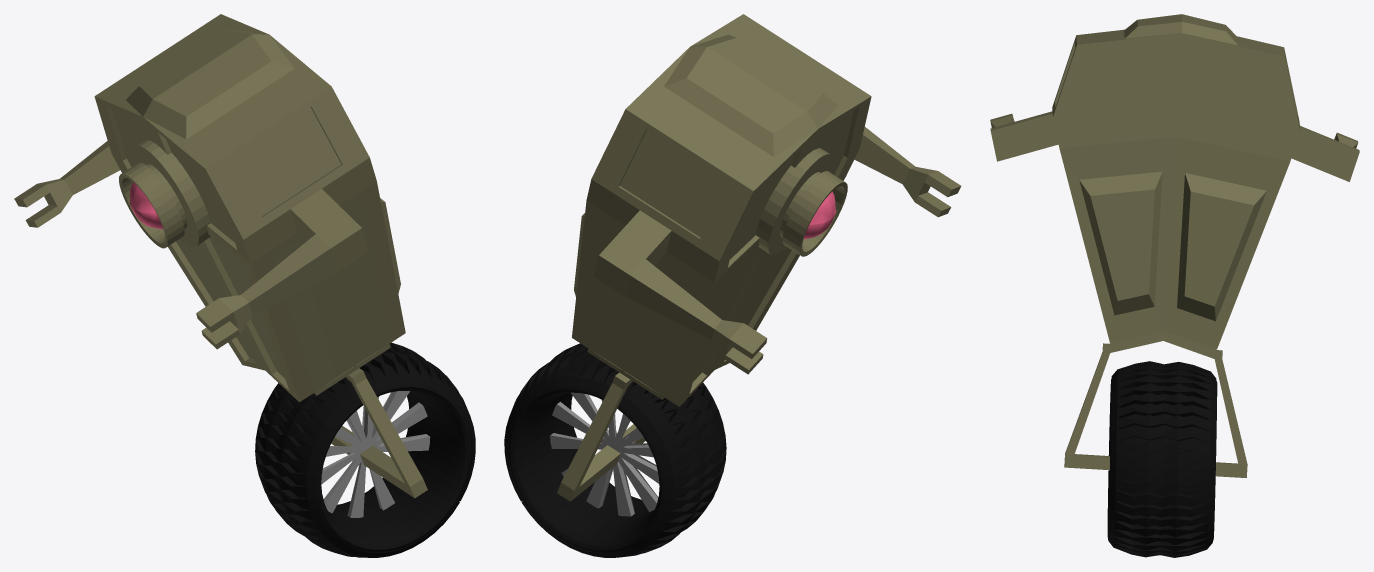
File: robot_walker.fbx
3 renders of one model, left to right at view 1: azimuth 30°, elevation 25°; view 2: azimuth 150°, elevation 25°; view 3: azimuth 270°, elevation 25°, orthographic. The views are drawn at different scales.
Visible parts, largest first — view 1: Robot, Wheel.001, Wheel, ceninhas das rodas, Eye; view 2: Robot, Wheel.001, Wheel, ceninhas das rodas, Eye; view 3: Robot, Wheel, Wheel.001.
Part boxes in pixels (left/top/right/bottom): Robot: left=14, top=14, right=427, bottom=498; Wheel.001: left=261, top=363, right=471, bottom=552; Wheel: left=255, top=342, right=475, bottom=557; ceninhas das rodas: left=321, top=391, right=430, bottom=517; Eye: left=130, top=182, right=163, bottom=229; Robot: left=557, top=14, right=961, bottom=501; Wheel.001: left=508, top=363, right=718, bottom=552; Wheel: left=504, top=343, right=726, bottom=557; ceninhas das rodas: left=550, top=392, right=659, bottom=516; Eye: left=803, top=191, right=835, bottom=239; Robot: left=990, top=14, right=1359, bottom=477; Wheel: left=1108, top=361, right=1216, bottom=557; Wheel.001: left=1107, top=378, right=1217, bottom=541.
Size of the model in its own units: 199 by 291 by 202.
